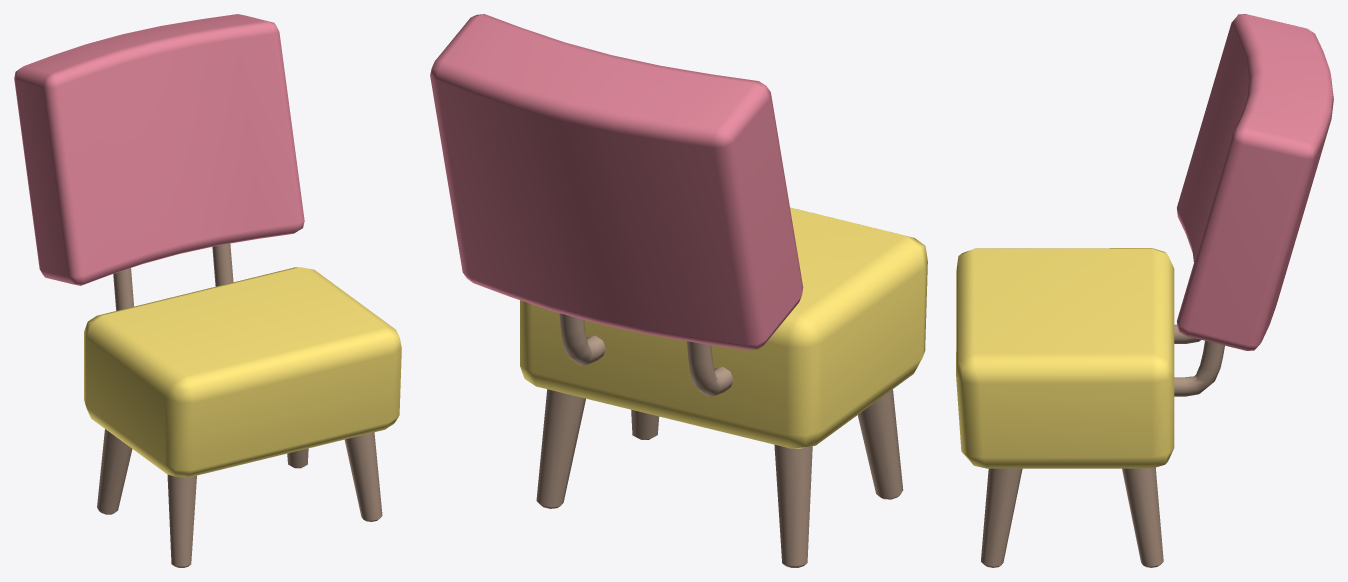
File: Chair_1.glb
The picture shows the model from 3 angles, left to right: view 1: azimuth 30°, elevation 25°; view 2: azimuth 150°, elevation 25°; view 3: azimuth 270°, elevation 25°; orthographic projection. The views are drawn at different scales.
Parts seen in each view (by area): view 1: Chair_1; view 2: Chair_1; view 3: Chair_1.
Boxes of the visible parts, <box> form: Chair_1: <box>14,14,401,567</box>; Chair_1: <box>430,14,927,567</box>; Chair_1: <box>956,14,1333,567</box>.
Bounding box in the file's own units: 0.6922 × 1.15 × 0.8872.
1 material, 1 textured.
